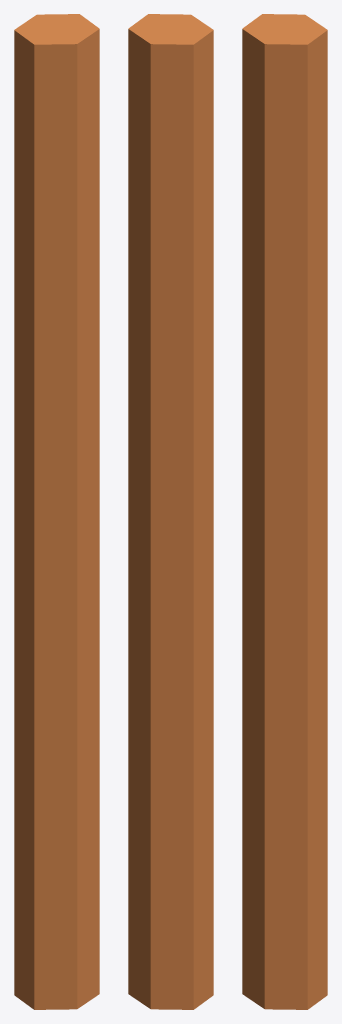
The model's file is Bars.fbx.
3 views of the same model, side by side, from view 1: azimuth 30°, elevation 25°; view 2: azimuth 150°, elevation 25°; view 3: azimuth 330°, elevation 25° (orthographic).
Visible parts, largest first — view 1: Cylinder; view 2: Cylinder; view 3: Cylinder.
Boxes of the visible parts, x1=… form: Cylinder: x1=14, y1=14, x2=99, y2=1009; Cylinder: x1=128, y1=14, x2=213, y2=1009; Cylinder: x1=242, y1=14, x2=327, y2=1009.
Bounding box in the file's own units: 72.75 × 1025 × 77.6.
